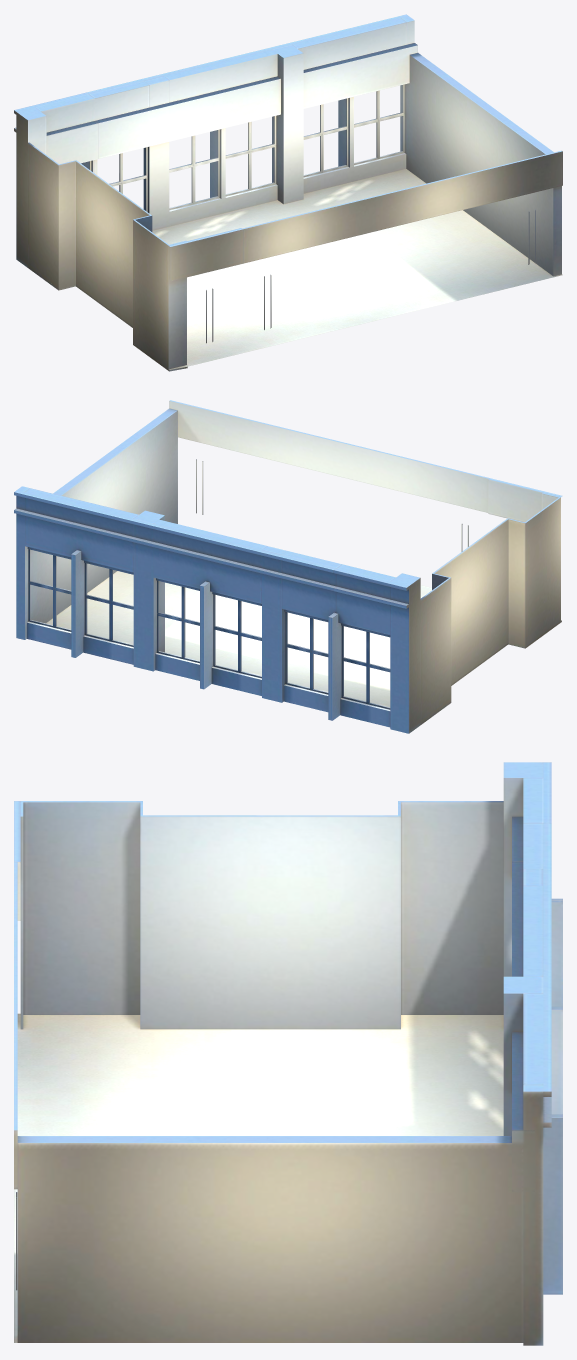
3 renders of one model, top to bottom at view 1: azimuth 30°, elevation 25°; view 2: azimuth 150°, elevation 25°; view 3: azimuth 270°, elevation 25°, orthographic. The views are drawn at different scales.
Visible parts, largest first — view 1: hc_2floor_room026_0; view 2: hc_2floor_room026_0; view 3: hc_2floor_room026_0.
Boxes of the visible parts, x1=… form: hc_2floor_room026_0: x1=14, y1=14, x2=562, y2=371; hc_2floor_room026_0: x1=14, y1=400, x2=562, y2=733; hc_2floor_room026_0: x1=14, y1=762, x2=562, y2=1345.
Bounding box in the file's own units: 1.38 × 0.4943 × 0.969.
Materials: 1 (1 with a texture image).
